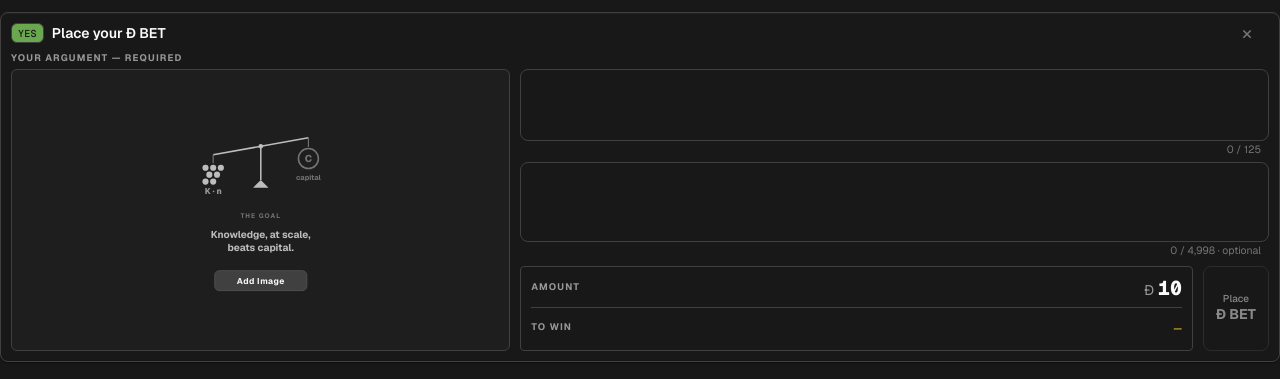
Test: R3 — the copy is unchanged and still verbatim › notice-slot::the-over-cap-strip-renders-VERBATIM-from-overCapStrip
The image size is (1280, 379).
Replace the text in the field named "Stake amount" with "20000" at (1170, 288), box x1=1158 y1=272 x2=1182 y2=302
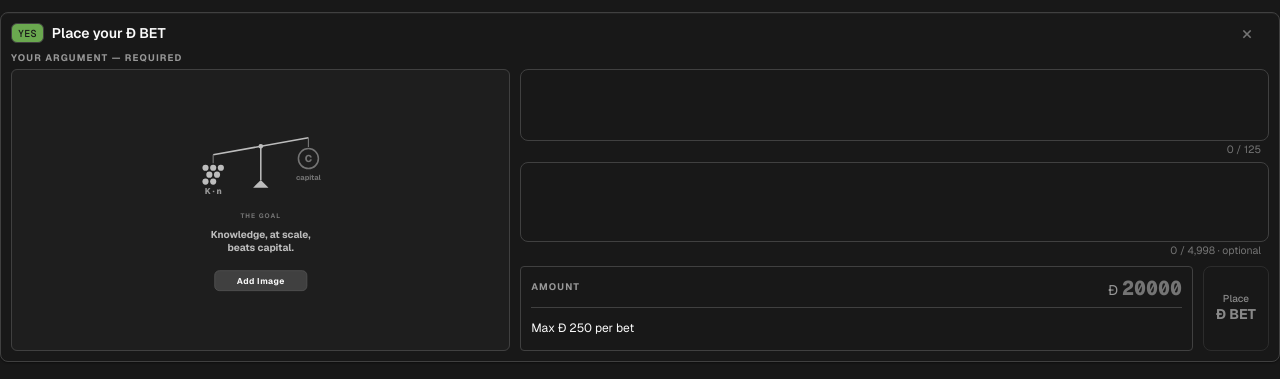
Expected: the message "Max Đ 250 per bet" is shown, x1=531 y1=320 x2=634 y2=336
